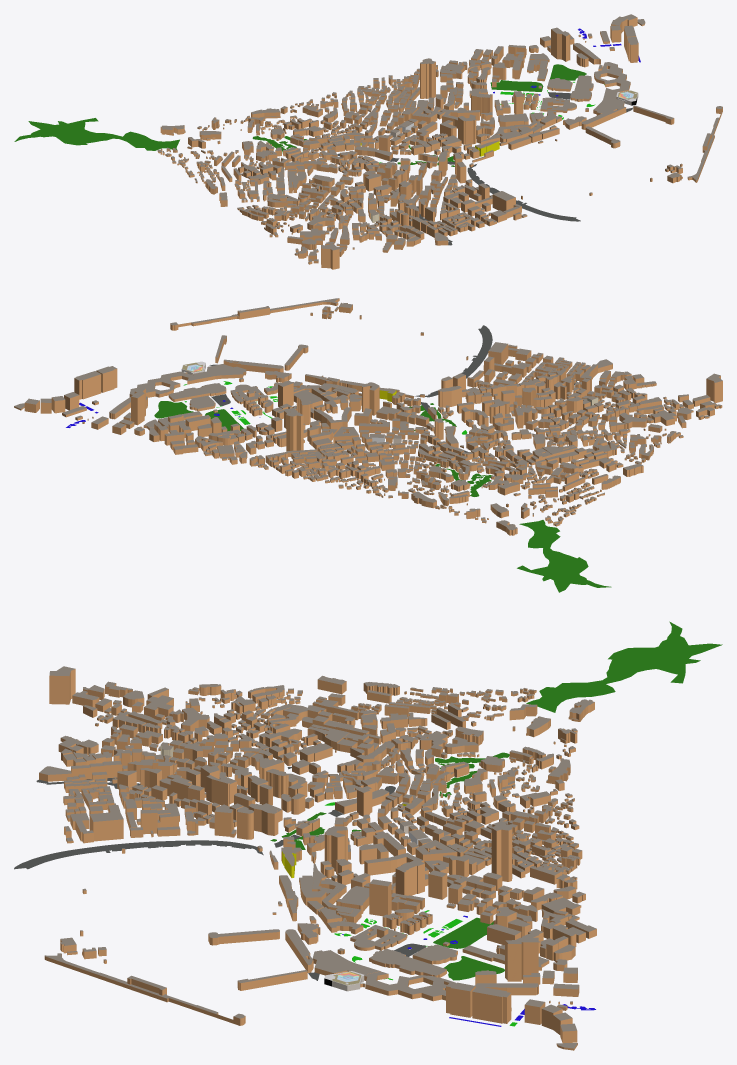
The picture shows the model from 3 angles, top to bottom: view 1: azimuth 30°, elevation 25°; view 2: azimuth 150°, elevation 25°; view 3: azimuth 270°, elevation 25°; orthographic projection. The views are drawn at different scales.
Parts seen in each view (by area): view 1: map_22.osm_buildings, map_22.osm_forest, map_22.osm_areas_pedestrian; view 2: map_22.osm_buildings, map_22.osm_forest, map_22.osm_areas_pedestrian; view 3: map_22.osm_buildings, map_22.osm_forest, map_22.osm_areas_pedestrian.
Part boxes in pixels (x1,y1,x2,y2): map_22.osm_buildings: [157, 14, 722, 269]; map_22.osm_forest: [14, 64, 586, 166]; map_22.osm_areas_pedestrian: [337, 92, 632, 245]; map_22.osm_buildings: [14, 298, 722, 535]; map_22.osm_forest: [154, 401, 611, 592]; map_22.osm_areas_pedestrian: [209, 325, 579, 452]; map_22.osm_buildings: [39, 666, 596, 1050]; map_22.osm_forest: [270, 621, 722, 980]; map_22.osm_areas_pedestrian: [14, 767, 426, 980].
Size of the model in its own units: 1984 by 112 by 1385.
